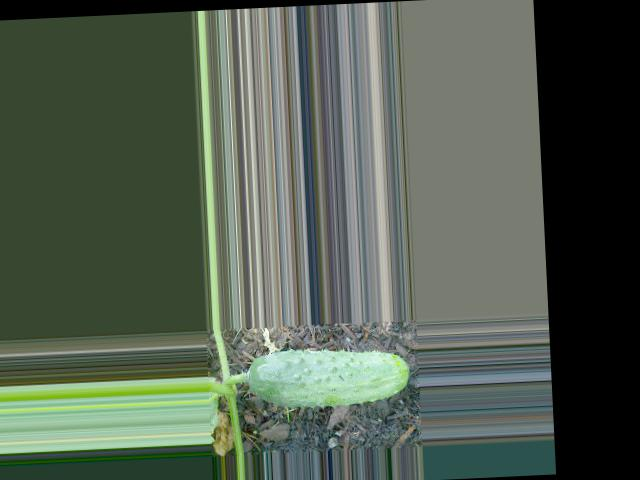cucumber: (247, 344, 411, 410)
